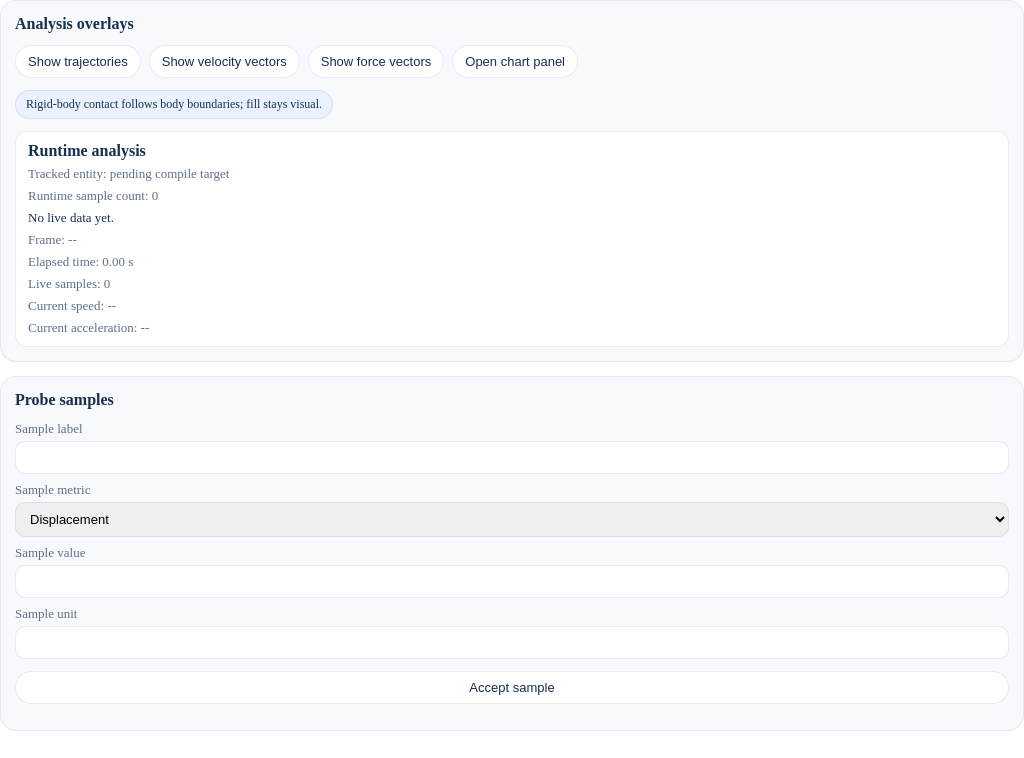
AnalysisPanel › loads runtime trajectory samples from runtime port props
This screenshot has width=1024, height=758.
Click the button "Open chart panel" at (515, 62), box [452,45,578,78]
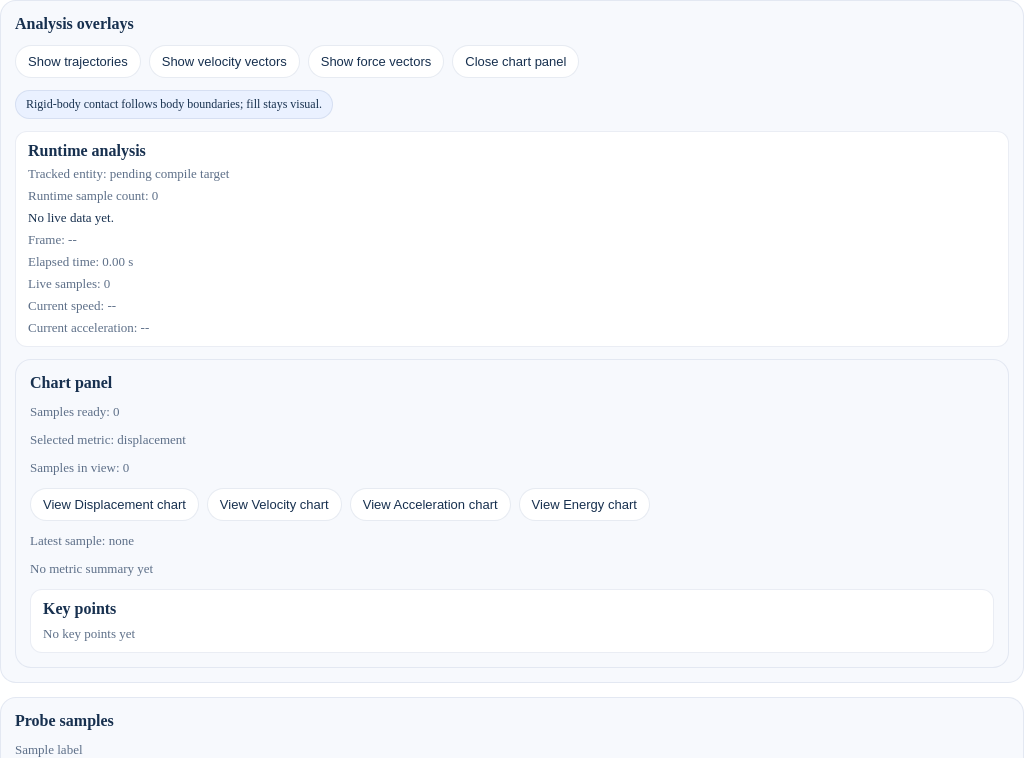
Click the button "View Velocity chart" at (274, 504), box [207,488,342,521]
(page scrolled)
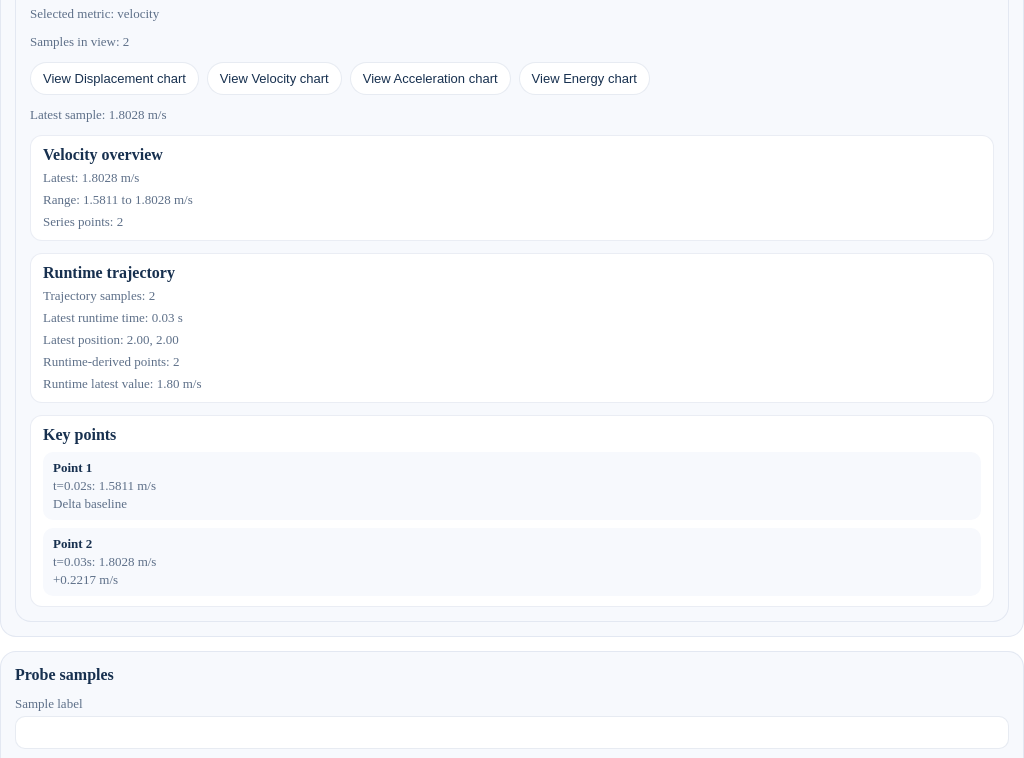
Now the text "Trajectory samples: 2" is shown, box [43,288,155,303]
Now the text "Velocity overview" is shown, box [43,146,163,163]
Now the text "Samples in view: 2" is shown, box [30,34,129,49]
